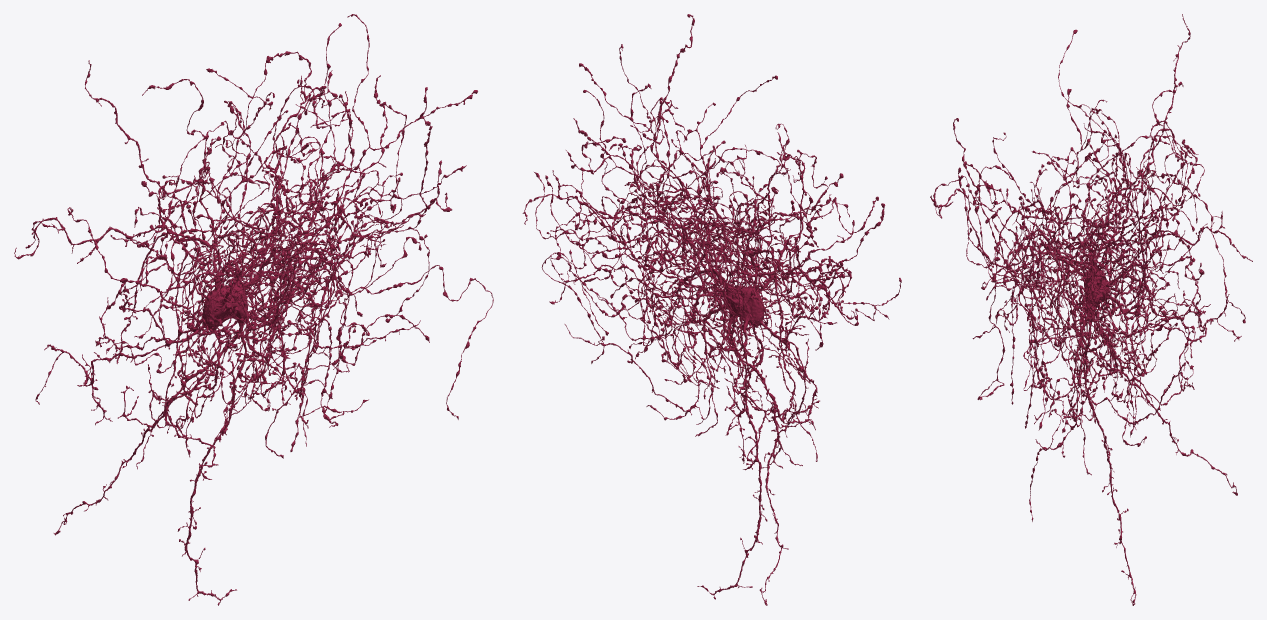
File: example_INT1.glb
3 renders of one model, left to right at view 1: azimuth 30°, elevation 25°; view 2: azimuth 150°, elevation 25°; view 3: azimuth 270°, elevation 25°, orthographic. The views are drawn at different scales.
Visible parts, largest first — view 1: 1080627023_INT1; view 2: 1080627023_INT1; view 3: 1080627023_INT1.
Part boxes in pixels (x1,y1,x2,y2): 1080627023_INT1: (14, 14, 493, 605); 1080627023_INT1: (522, 14, 901, 605); 1080627023_INT1: (930, 14, 1252, 605).
Size of the model in its own units: 1.52 by 2.02 by 1.05.
